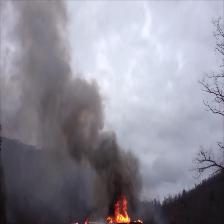fire: (116, 208, 132, 223)
smoke: (24, 4, 62, 114), (71, 88, 100, 154), (108, 152, 139, 201)
